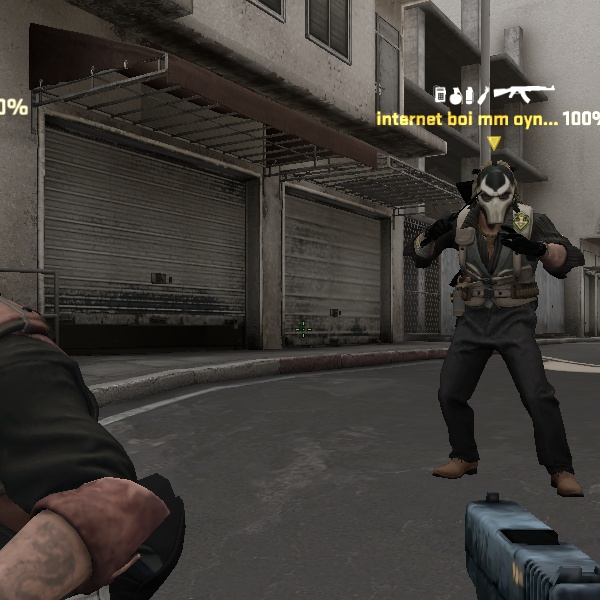t_body: (416, 164, 584, 493)
t_head: (459, 160, 536, 239)
